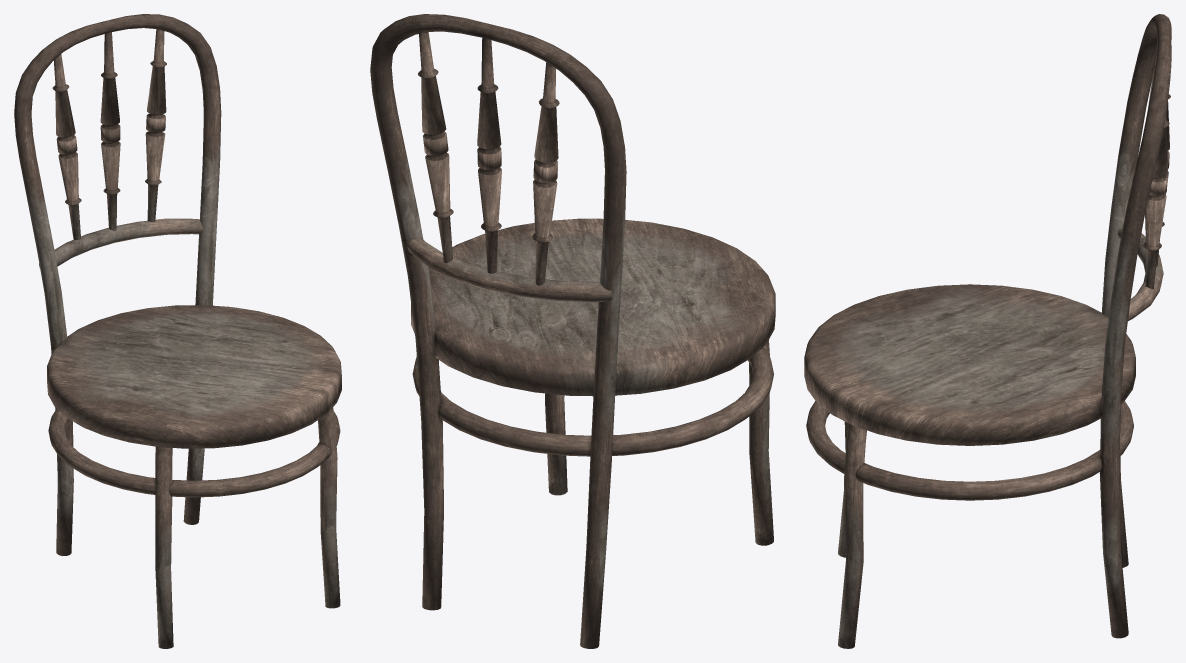
File: Chair02.obj
The picture shows the model from 3 angles, left to right: view 1: azimuth 30°, elevation 25°; view 2: azimuth 150°, elevation 25°; view 3: azimuth 270°, elevation 25°; orthographic projection. The views are drawn at different scales.
Visible parts, largest first — view 1: Cylinder.006_Cylinder, BezierCurve, Torus, Cylinder.008_Cylinder.009, Cylinder.007_Cylinder.008, Torus.001; view 2: Cylinder.006_Cylinder, BezierCurve, Cylinder.008_Cylinder.009, Torus, Torus.001, Cylinder.007_Cylinder.008; view 3: Cylinder.006_Cylinder, BezierCurve, Torus, Cylinder.008_Cylinder.009, Torus.001.
Part boxes in pixels (x1,y1,x2,y2): Cylinder.006_Cylinder: (47,305,341,448); BezierCurve: (14,14,340,648); Torus: (48,409,340,497); Cylinder.008_Cylinder.009: (52,29,166,239); Cylinder.007_Cylinder.008: (100,32,120,230); Torus.001: (39,218,203,267); Cylinder.006_Cylinder: (411,218,775,396); BezierCurve: (370,14,773,648); Cylinder.008_Cylinder.009: (418,32,559,285); Torus: (412,348,773,456); Torus.001: (406,237,611,302); Cylinder.007_Cylinder.008: (477,37,501,273); Cylinder.006_Cylinder: (804,284,1135,445); BezierCurve: (838,14,1171,648); Torus: (806,401,1133,500); Cylinder.008_Cylinder.009: (1143,38,1169,288); Torus.001: (1117,226,1163,320).
Bounding box in the file's own units: 0.876 × 1.64 × 0.9702.
Materials: 1 (1 with a texture image).
